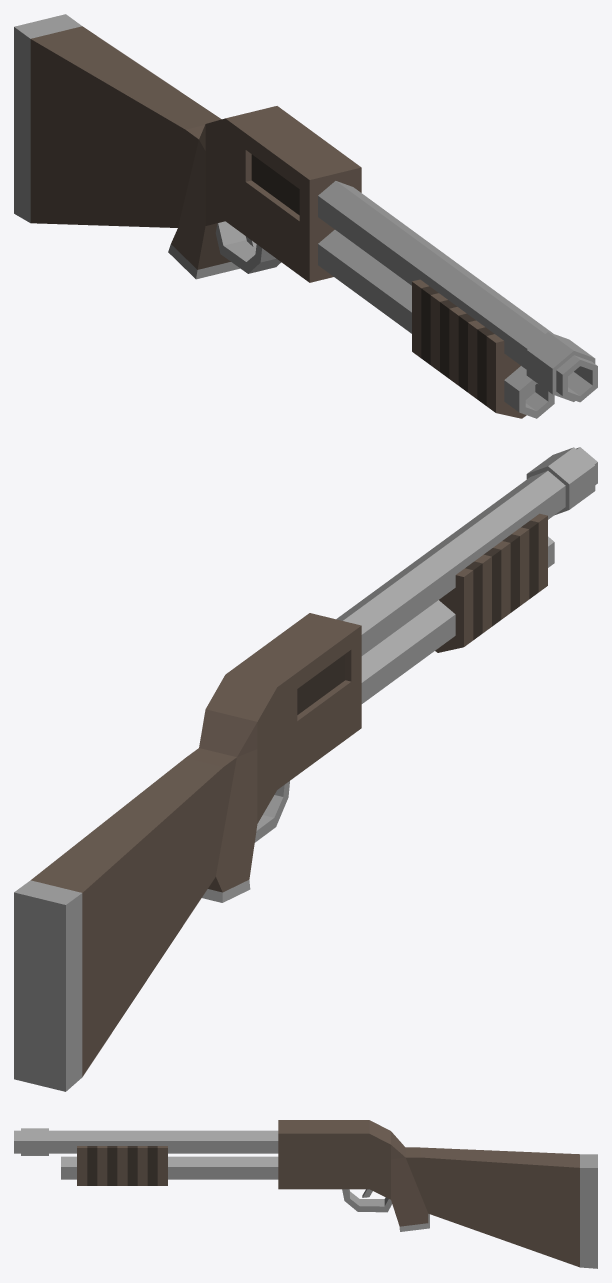
Rendered from Shotgun.fbx.
3 views of the same model, one above another, from view 1: azimuth 30°, elevation 25°; view 2: azimuth 150°, elevation 25°; view 3: azimuth 270°, elevation 25° (orthographic). The views are drawn at different scales.
Visible parts, largest first — view 1: Shotgun; view 2: Shotgun; view 3: Shotgun.
Boxes of the visible parts, <box> form: Shotgun: <box>14,14,597,418</box>; Shotgun: <box>14,447,597,1091</box>; Shotgun: <box>14,1120,597,1268</box>.
Bounding box in the file's own units: 16.11 × 70.85 × 278.
